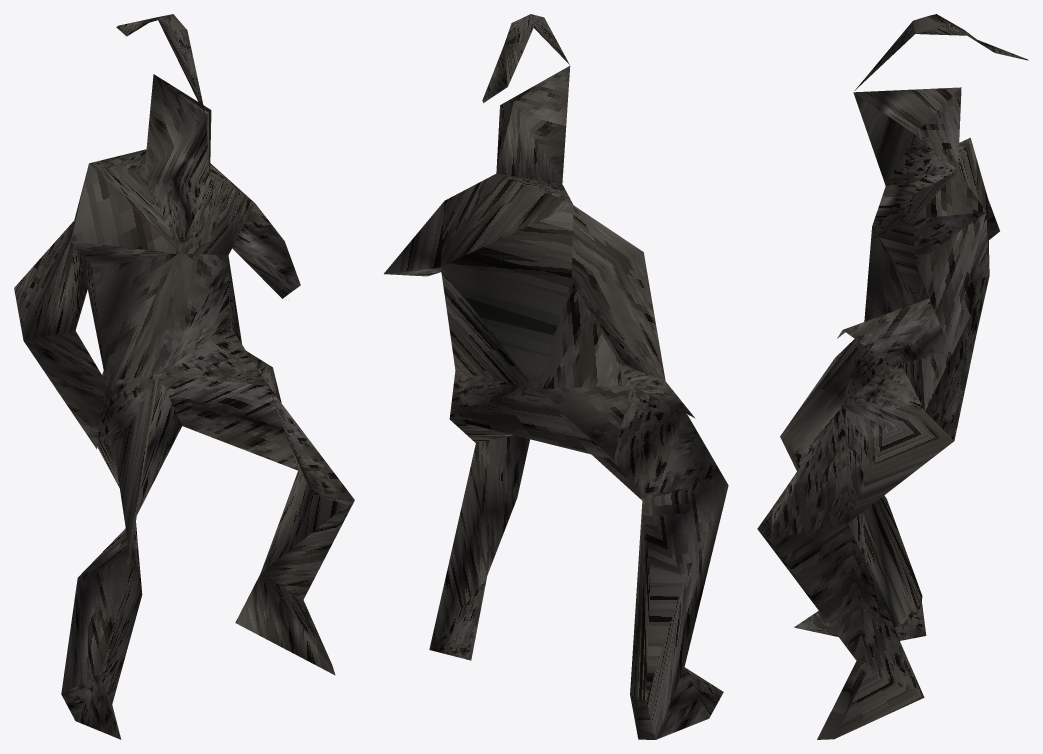
File: ae_knight_rider_lod2.glb
The picture shows the model from 3 angles, left to right: view 1: azimuth 30°, elevation 25°; view 2: azimuth 150°, elevation 25°; view 3: azimuth 270°, elevation 25°; orthographic projection. The views are drawn at different scales.
Parts seen in each view (by area): view 1: output_unwrapped; view 2: output_unwrapped; view 3: output_unwrapped.
Boxes of the visible parts, left/top/right/bottom form: output_unwrapped: left=14, top=14, right=354, bottom=739; output_unwrapped: left=384, top=14, right=728, bottom=739; output_unwrapped: left=757, top=14, right=1028, bottom=739.
Size of the model in its own units: 0.7999 by 1.9 by 0.6969.
1 material, 1 textured.
